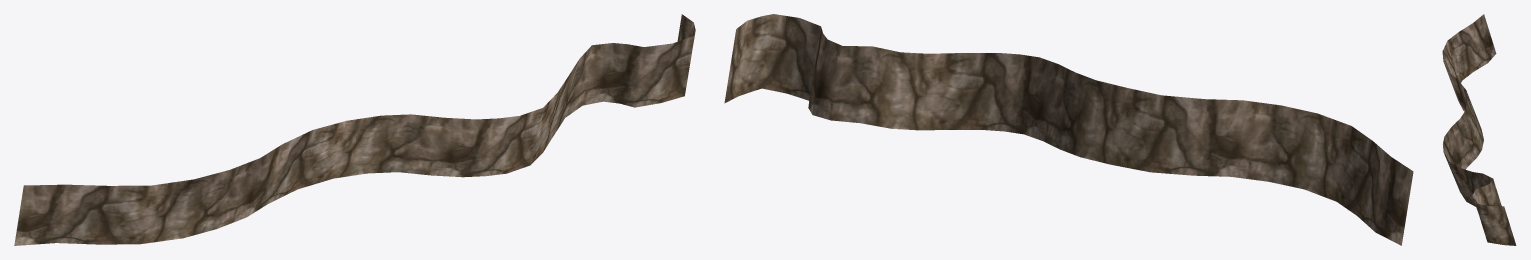
File: OVERHILL_A_01_LINE151.fbx
3 views of the same model, side by side, from view 1: azimuth 30°, elevation 25°; view 2: azimuth 150°, elevation 25°; view 3: azimuth 270°, elevation 25° (orthographic). The views are drawn at different scales.
Visible parts, largest first — view 1: OVERHILL_A_01_LINE151; view 2: OVERHILL_A_01_LINE151; view 3: OVERHILL_A_01_LINE151.
Boxes of the visible parts, bbox=[...] form: OVERHILL_A_01_LINE151: bbox=[14, 14, 695, 245]; OVERHILL_A_01_LINE151: bbox=[724, 14, 1413, 245]; OVERHILL_A_01_LINE151: bbox=[1442, 14, 1516, 245].
Size of the model in its own units: 245672 by 30729 by 40658.
1 material, 1 textured.
